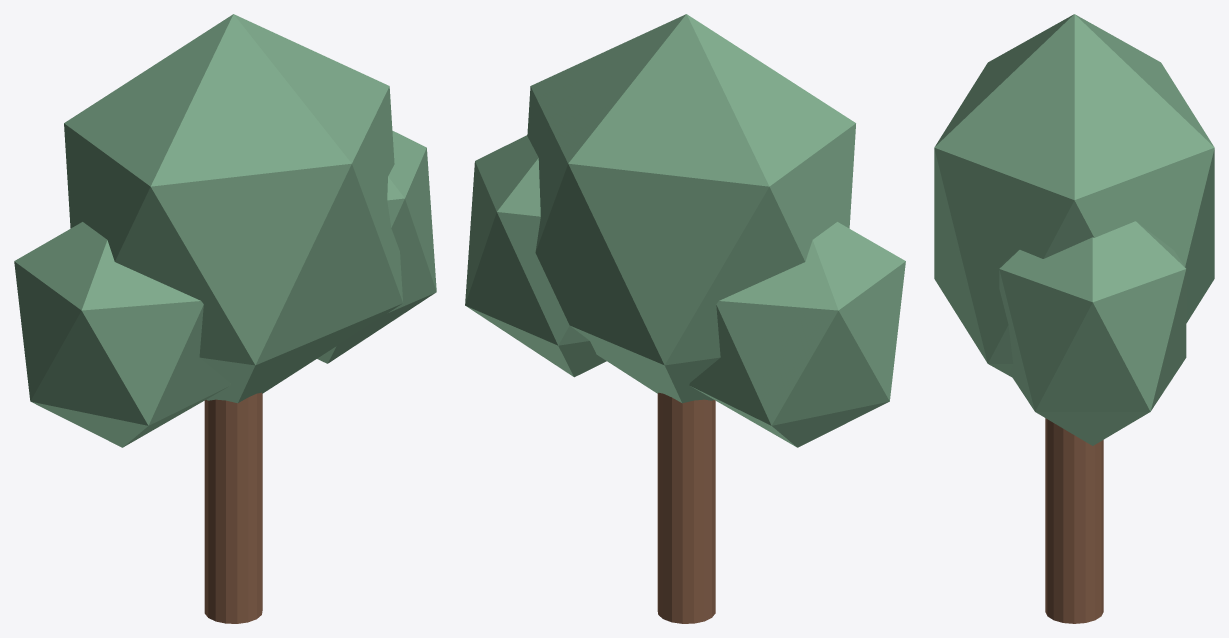
Rendered from Tree.glb.
3 views of the same model, side by side, from view 1: azimuth 30°, elevation 25°; view 2: azimuth 150°, elevation 25°; view 3: azimuth 270°, elevation 25° (orthographic).
Visible parts, largest first — view 1: Leaf, Leaf.001, Wood, Leaf.002; view 2: Leaf, Leaf.001, Leaf.002, Wood; view 3: Leaf, Leaf.002, Wood.
Boxes of the visible parts, x1,y1,x2,y2 form: Leaf: (64, 14, 402, 403); Leaf.001: (14, 222, 230, 447); Wood: (204, 392, 262, 623); Leaf.002: (317, 130, 436, 363); Leaf: (527, 14, 855, 403); Leaf.001: (689, 222, 905, 447); Leaf.002: (465, 135, 606, 377); Wood: (657, 392, 715, 623); Leaf: (934, 14, 1214, 376); Leaf.002: (999, 221, 1186, 445); Wood: (1045, 418, 1103, 623).
Size of the model in its own units: 2.56 by 3.6 by 1.53.
